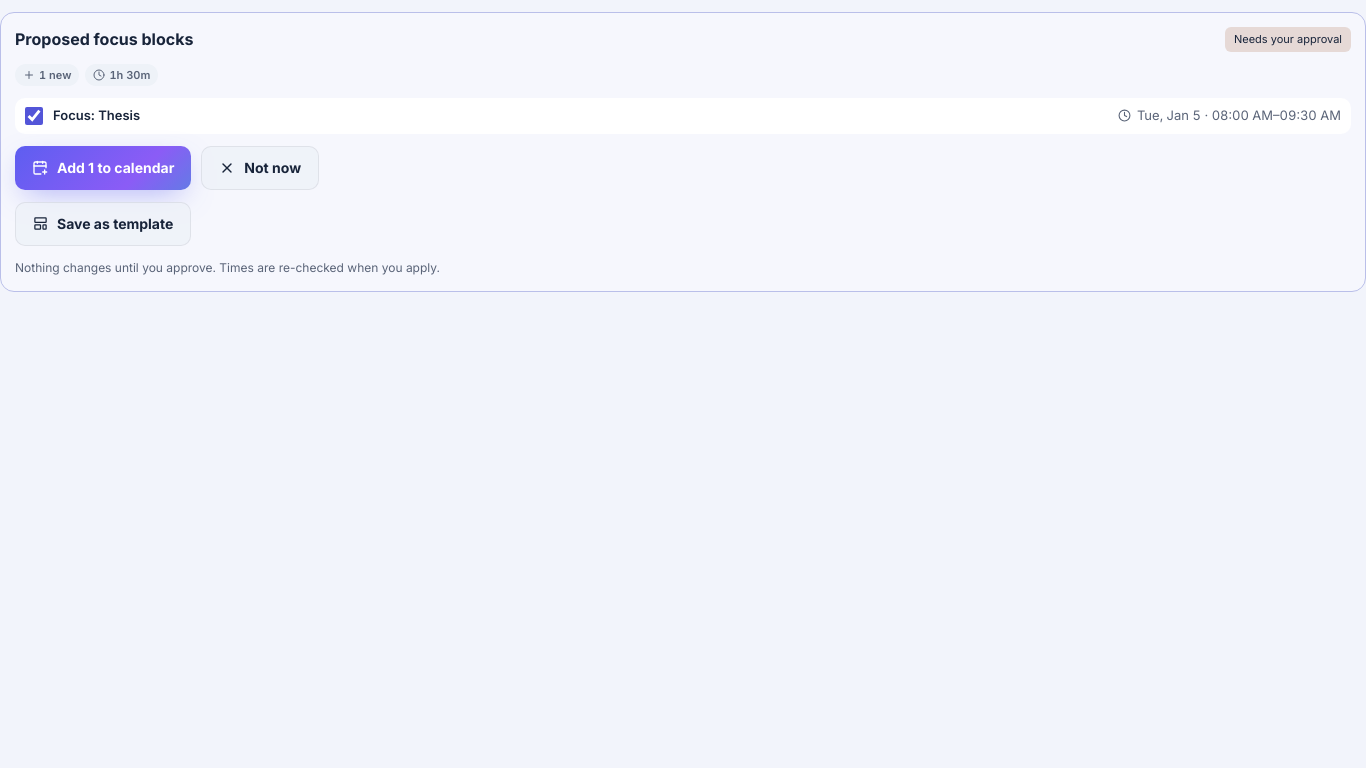
Test case: week templates › saves a proposal as a named template and tells the page
Step 1. Click the button "Save as template" → (103, 224), box [15,202,191,246]
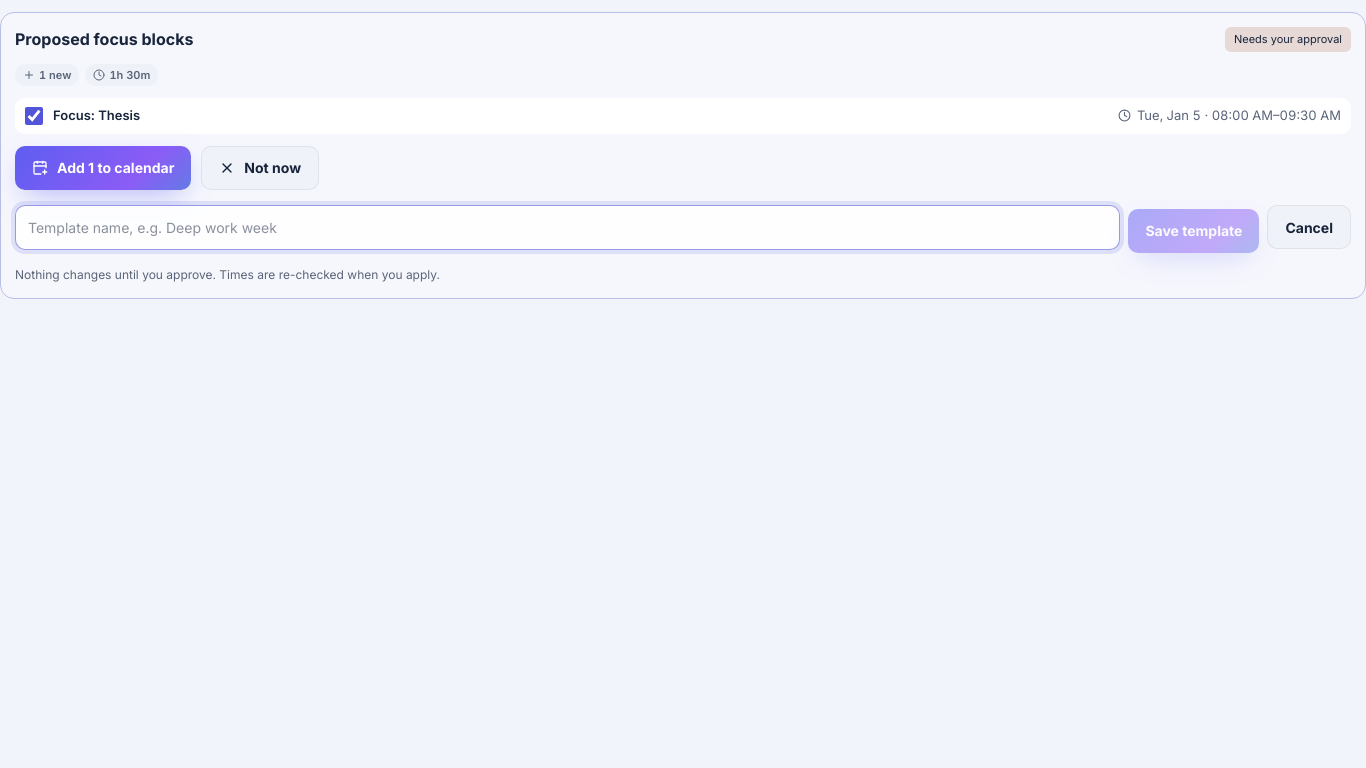
Step 2. Type "Deep week" into the field labelled "Template name" → (568, 227), box [15,204,1120,250]
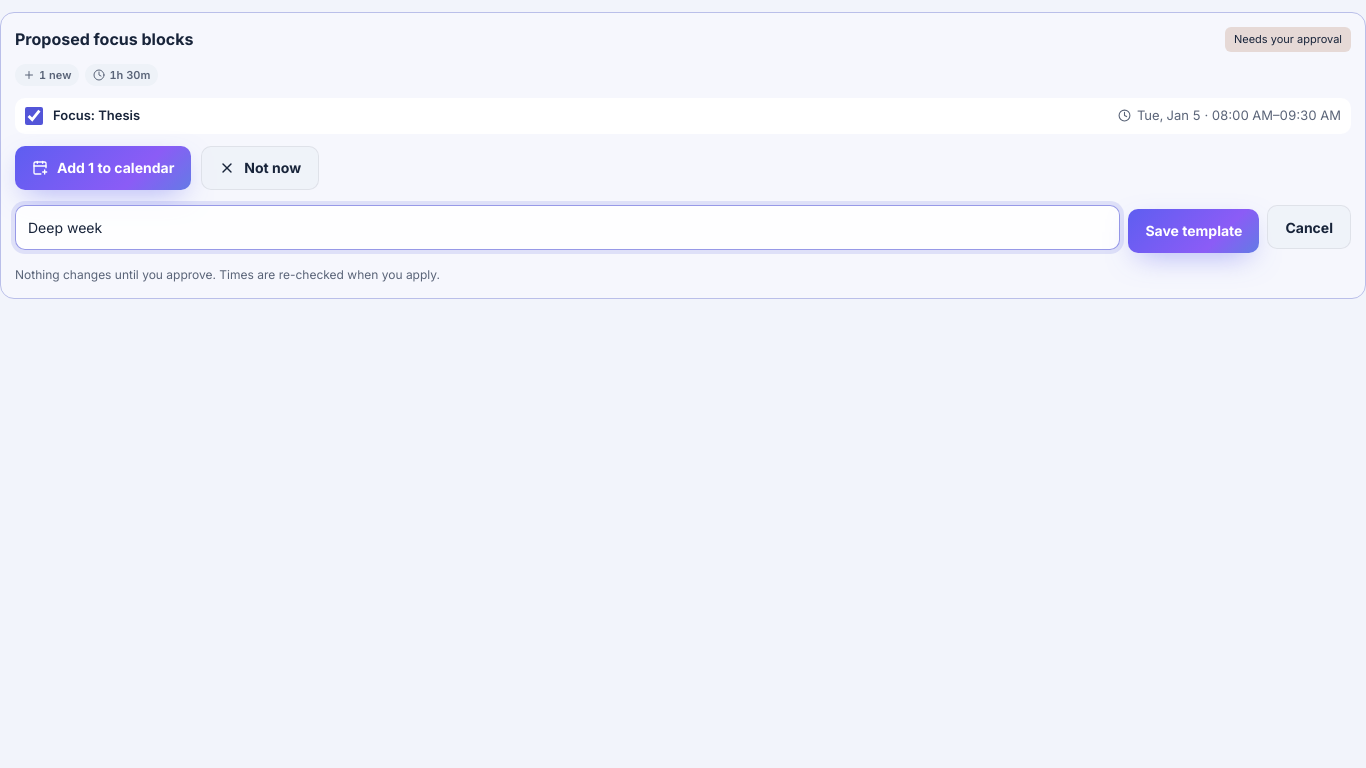
Step 3. Click the button "Save template" → (1194, 230), box [1128,208,1259,252]
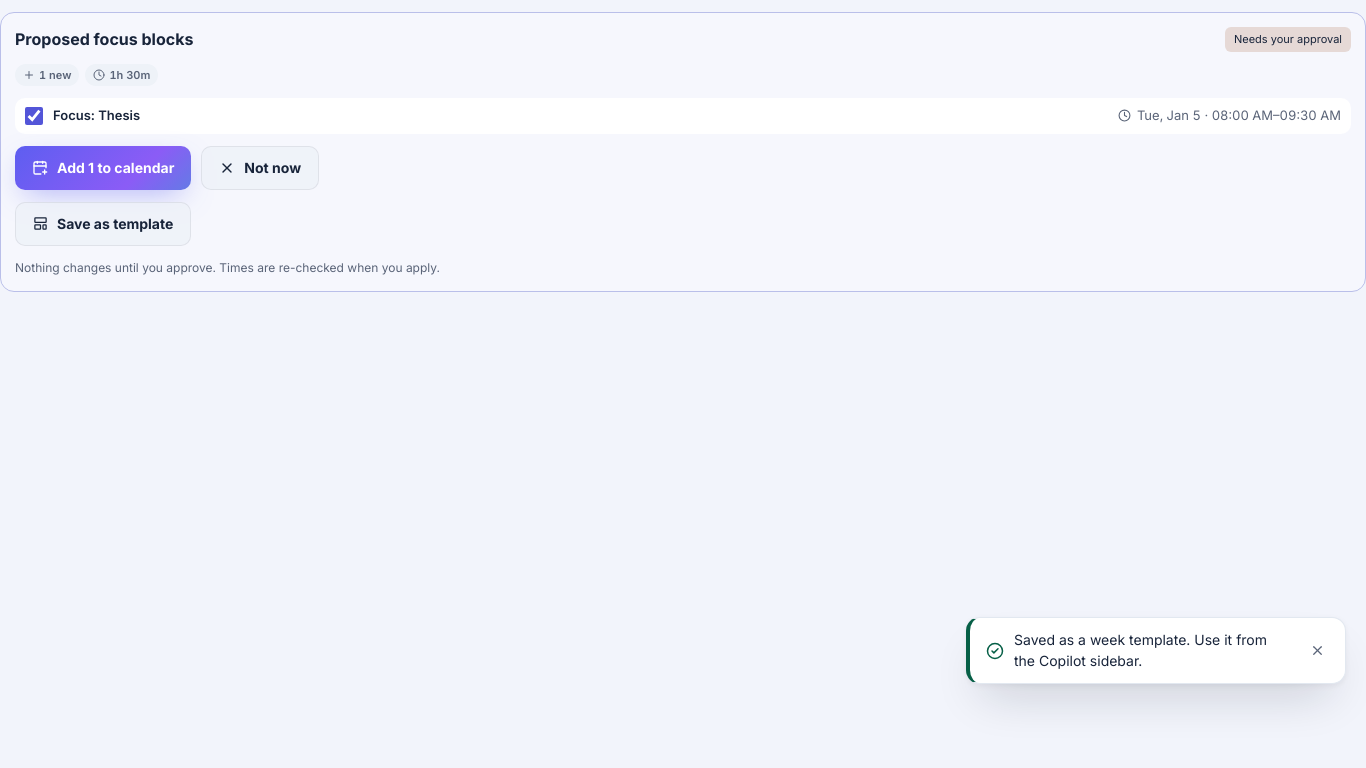
Check: the text "Saved as a week template. Use it from the Copilot sidebar." is shown, box [1014,630,1291,671]
